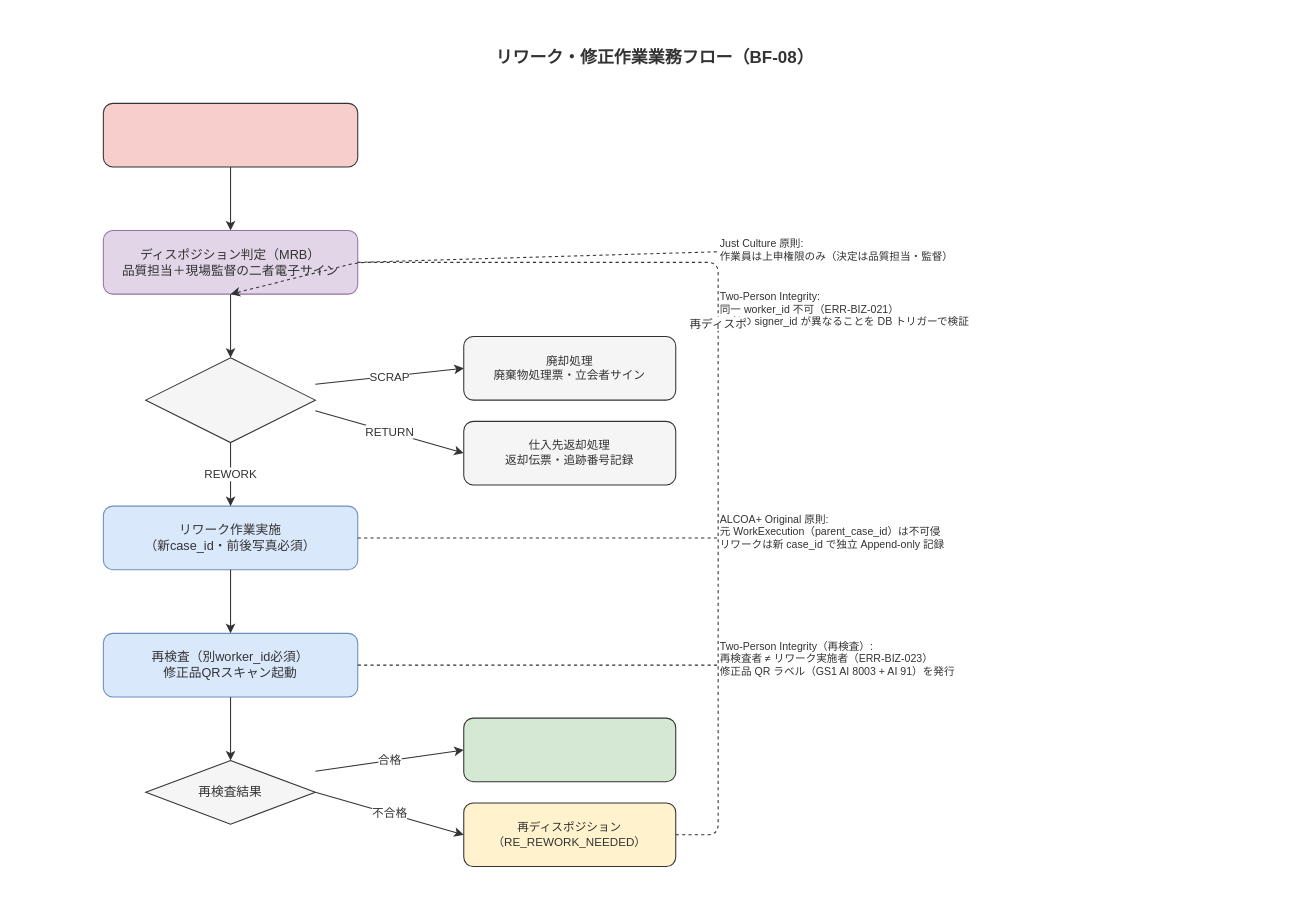
Image size: 1308x905. Some labels were removed from this diagram. The shapes that lost their labels are listed below. From the top down, each one's centre as x and y in pixels, then its label:
At point 230,134: "不適合起票（BF-03経由） PENDING_DISPOSITION 状態へ".
At point 230,400: "判定種別".
At point 569,749: "CLOSED_OK_RELEASE 再検査合格・出荷可".
